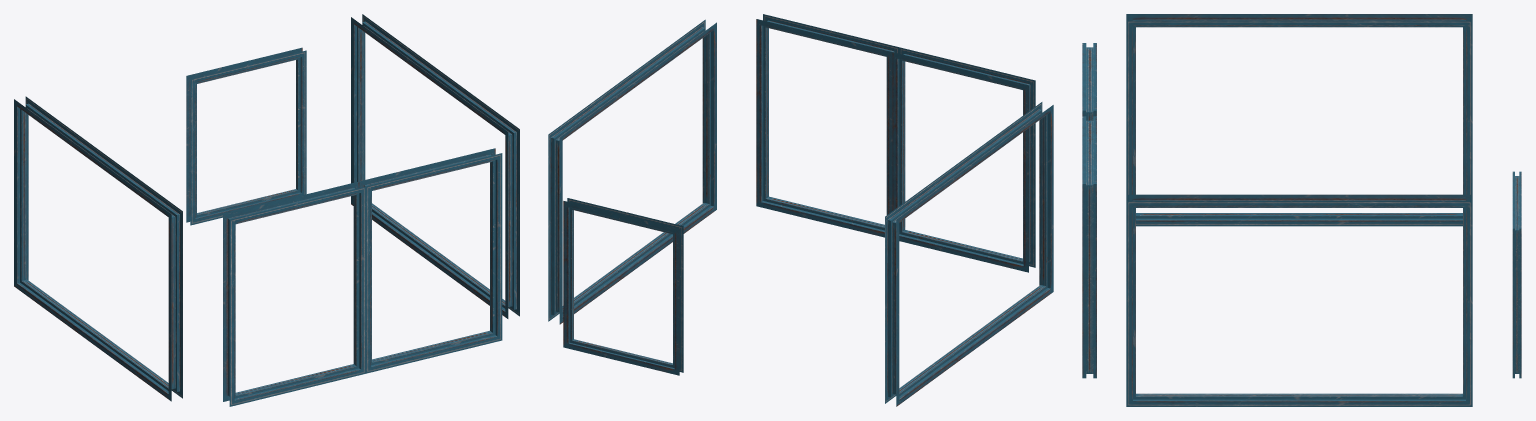
File: SM_GuardTower_LG_GT_WindowFrames.fbx
3 views of the same model, side by side, from view 1: azimuth 30°, elevation 25°; view 2: azimuth 150°, elevation 25°; view 3: azimuth 270°, elevation 25° (orthographic). The views are drawn at different scales.
Visible parts, largest first — view 1: SM_GuardTower_LG_GT_WindowFrames; view 2: SM_GuardTower_LG_GT_WindowFrames; view 3: SM_GuardTower_LG_GT_WindowFrames.
Part boxes in pixels (box(x1,y1,x2,y2)): SM_GuardTower_LG_GT_WindowFrames: box(14, 14, 519, 406); SM_GuardTower_LG_GT_WindowFrames: box(548, 14, 1053, 406); SM_GuardTower_LG_GT_WindowFrames: box(1082, 14, 1521, 406).
Size of the model in its own units: 342 by 340 by 176.
Materials: 1 (1 with a texture image).
